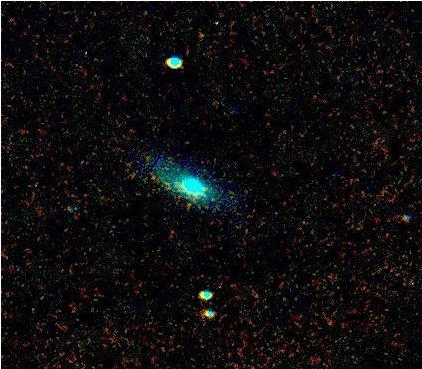star: (138, 163, 168, 193)
